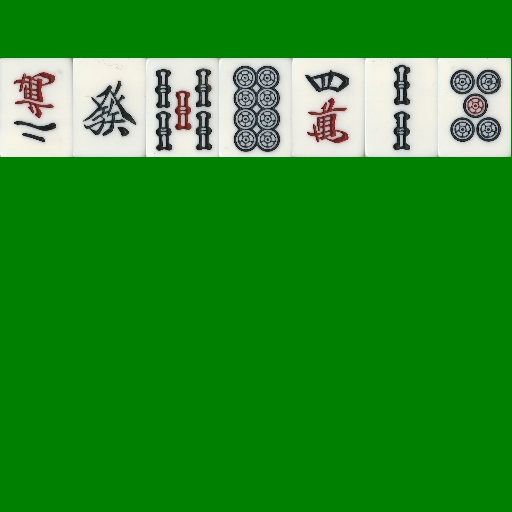2m: (0, 58, 73, 157)
2s: (365, 58, 438, 157)
4m: (292, 58, 365, 157)
5p: (438, 58, 511, 157)
5s: (146, 58, 219, 157)
8p: (219, 58, 292, 157)
hatsu: (73, 58, 146, 157)
